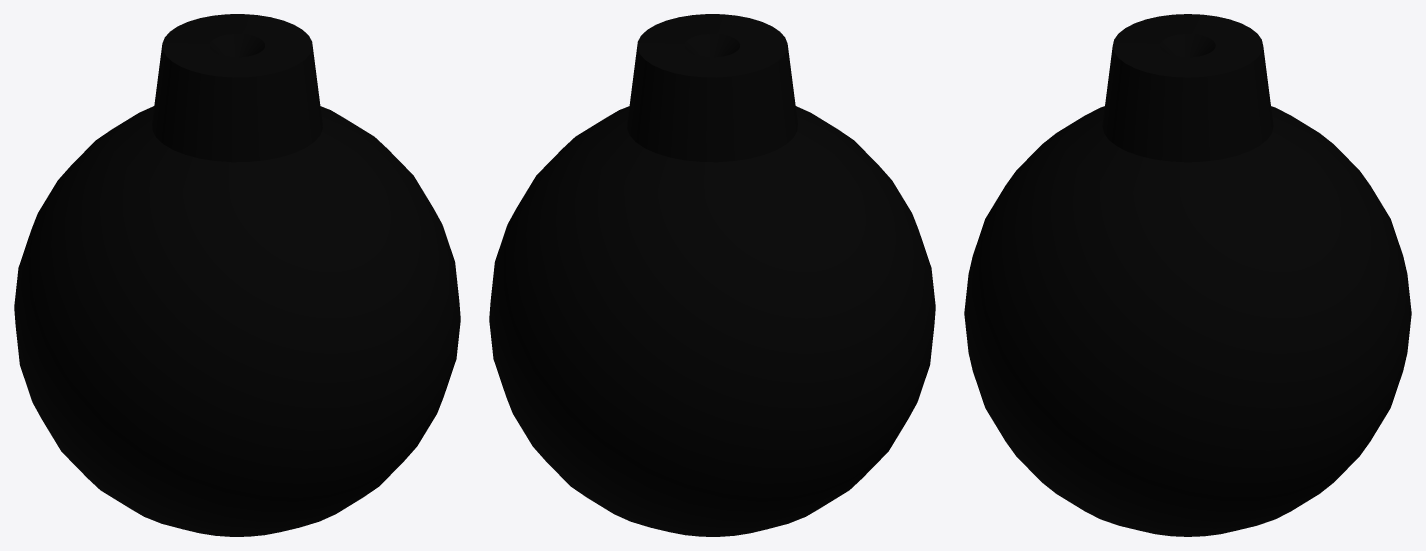
File: Bomb.fbx
3 renders of one model, left to right at view 1: azimuth 30°, elevation 25°; view 2: azimuth 150°, elevation 25°; view 3: azimuth 270°, elevation 25°, orthographic.
Visible parts, largest first — view 1: BezierCurve; view 2: BezierCurve; view 3: BezierCurve.
Part boxes in pixels (x1,y1,x2,y2): BezierCurve: (14,14,460,536); BezierCurve: (489,14,935,536); BezierCurve: (964,14,1411,536).
Size of the model in its own units: 60 by 69.63 by 60.
